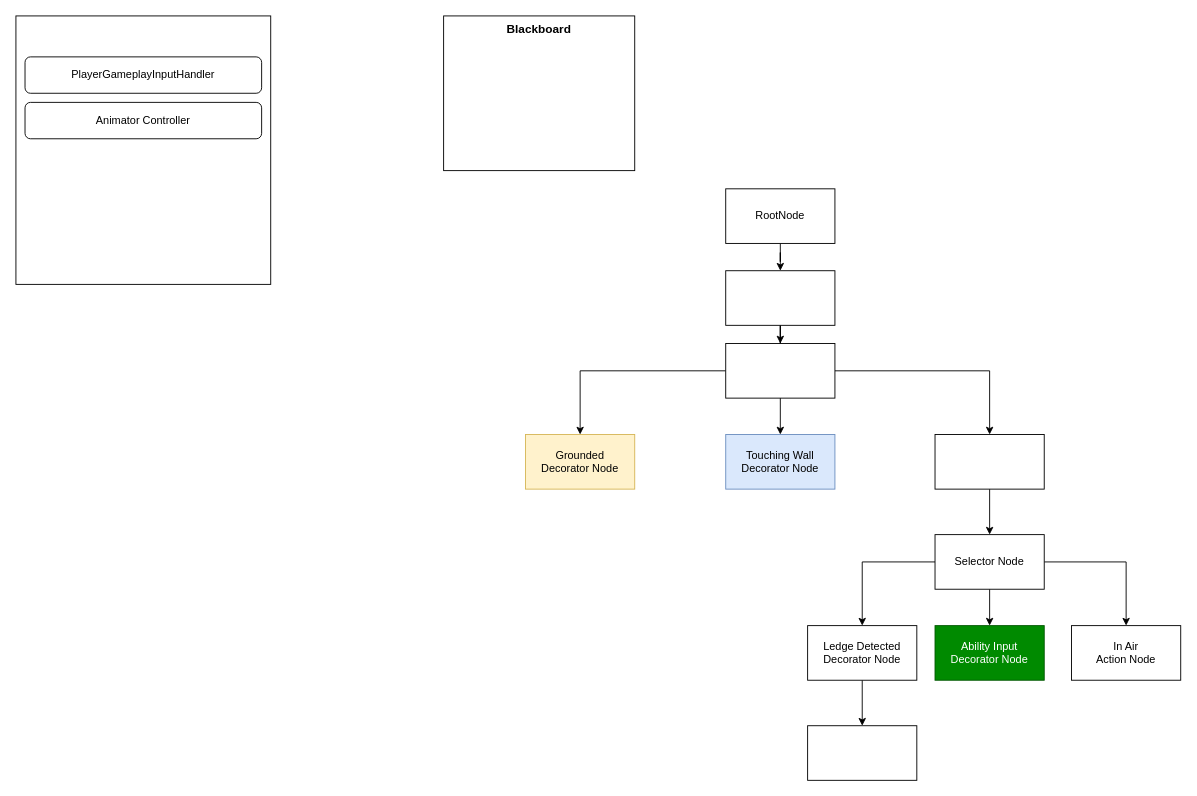
This 1197x796 diagram has some shape labels left out. Each missing label, with the box of its shape:
Always Running Decorator Node: (725, 270, 835, 325)
Context: (15, 15, 271, 284)
In Air Decorator Node: (934, 434, 1044, 489)
Ledge Climb Action Node: (807, 725, 917, 780)
Selector: (725, 343, 835, 398)
